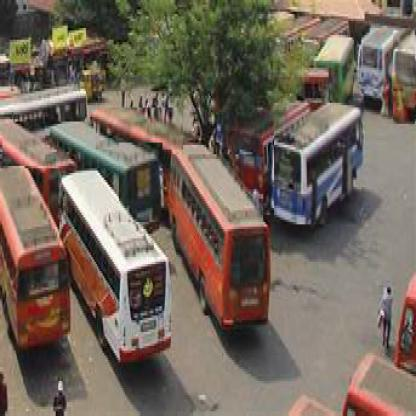bus: (66, 184, 177, 357), (172, 155, 264, 319), (274, 104, 362, 228), (3, 169, 61, 354), (96, 108, 184, 153), (119, 144, 164, 226), (361, 29, 394, 125), (391, 32, 416, 128), (13, 94, 86, 125), (2, 123, 46, 169), (329, 38, 355, 104)
